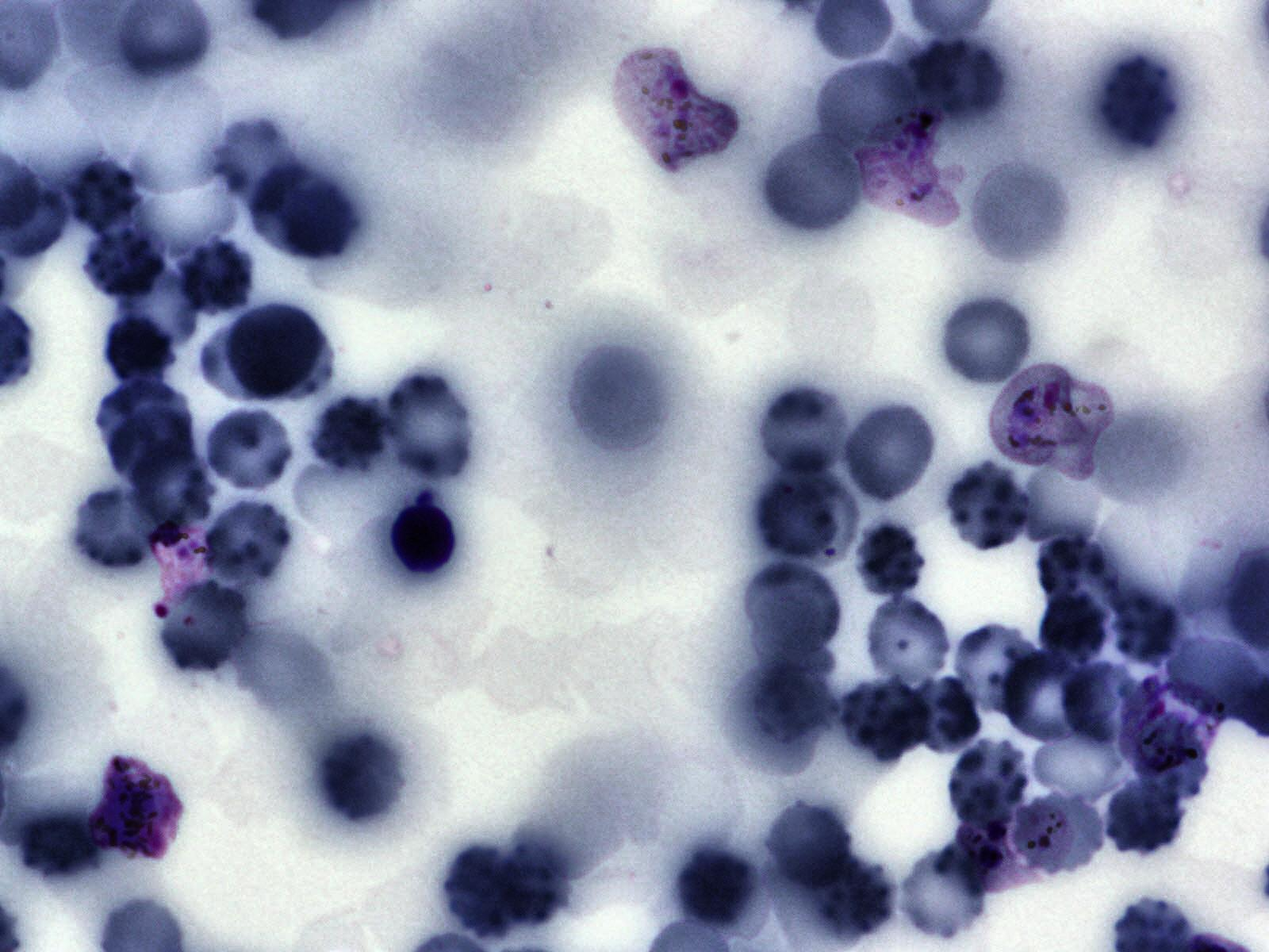Infected: (988, 363, 1113, 480), (612, 51, 736, 168), (857, 107, 958, 232), (86, 747, 182, 866), (1117, 677, 1223, 782), (960, 806, 1069, 892), (148, 520, 213, 618), (391, 499, 455, 579)
Uninfected: (221, 299, 328, 403), (761, 132, 866, 236), (250, 162, 354, 263), (380, 373, 476, 478), (745, 561, 843, 662), (841, 401, 937, 504), (157, 577, 252, 678), (937, 292, 1035, 389), (948, 621, 1044, 716), (756, 386, 851, 481), (316, 729, 408, 827), (816, 60, 911, 153), (1095, 51, 1182, 150), (201, 407, 296, 496), (870, 593, 955, 689), (70, 485, 160, 574), (1006, 650, 1092, 743), (201, 498, 293, 584), (904, 846, 986, 942), (945, 738, 1033, 827), (1101, 768, 1189, 856), (127, 441, 219, 524), (946, 460, 1027, 553), (767, 801, 852, 889), (442, 843, 521, 935), (843, 681, 930, 763), (911, 42, 1003, 119), (813, 855, 894, 939), (755, 480, 834, 566), (95, 382, 194, 450), (1062, 663, 1147, 742), (309, 395, 393, 472), (107, 413, 192, 487), (175, 236, 254, 313), (907, 674, 983, 754), (1041, 535, 1117, 614), (497, 842, 569, 922), (85, 229, 165, 299), (67, 158, 140, 234), (857, 520, 925, 599), (679, 854, 750, 927), (98, 316, 174, 383), (1040, 590, 1105, 667), (1116, 592, 1179, 667), (18, 816, 97, 873)
